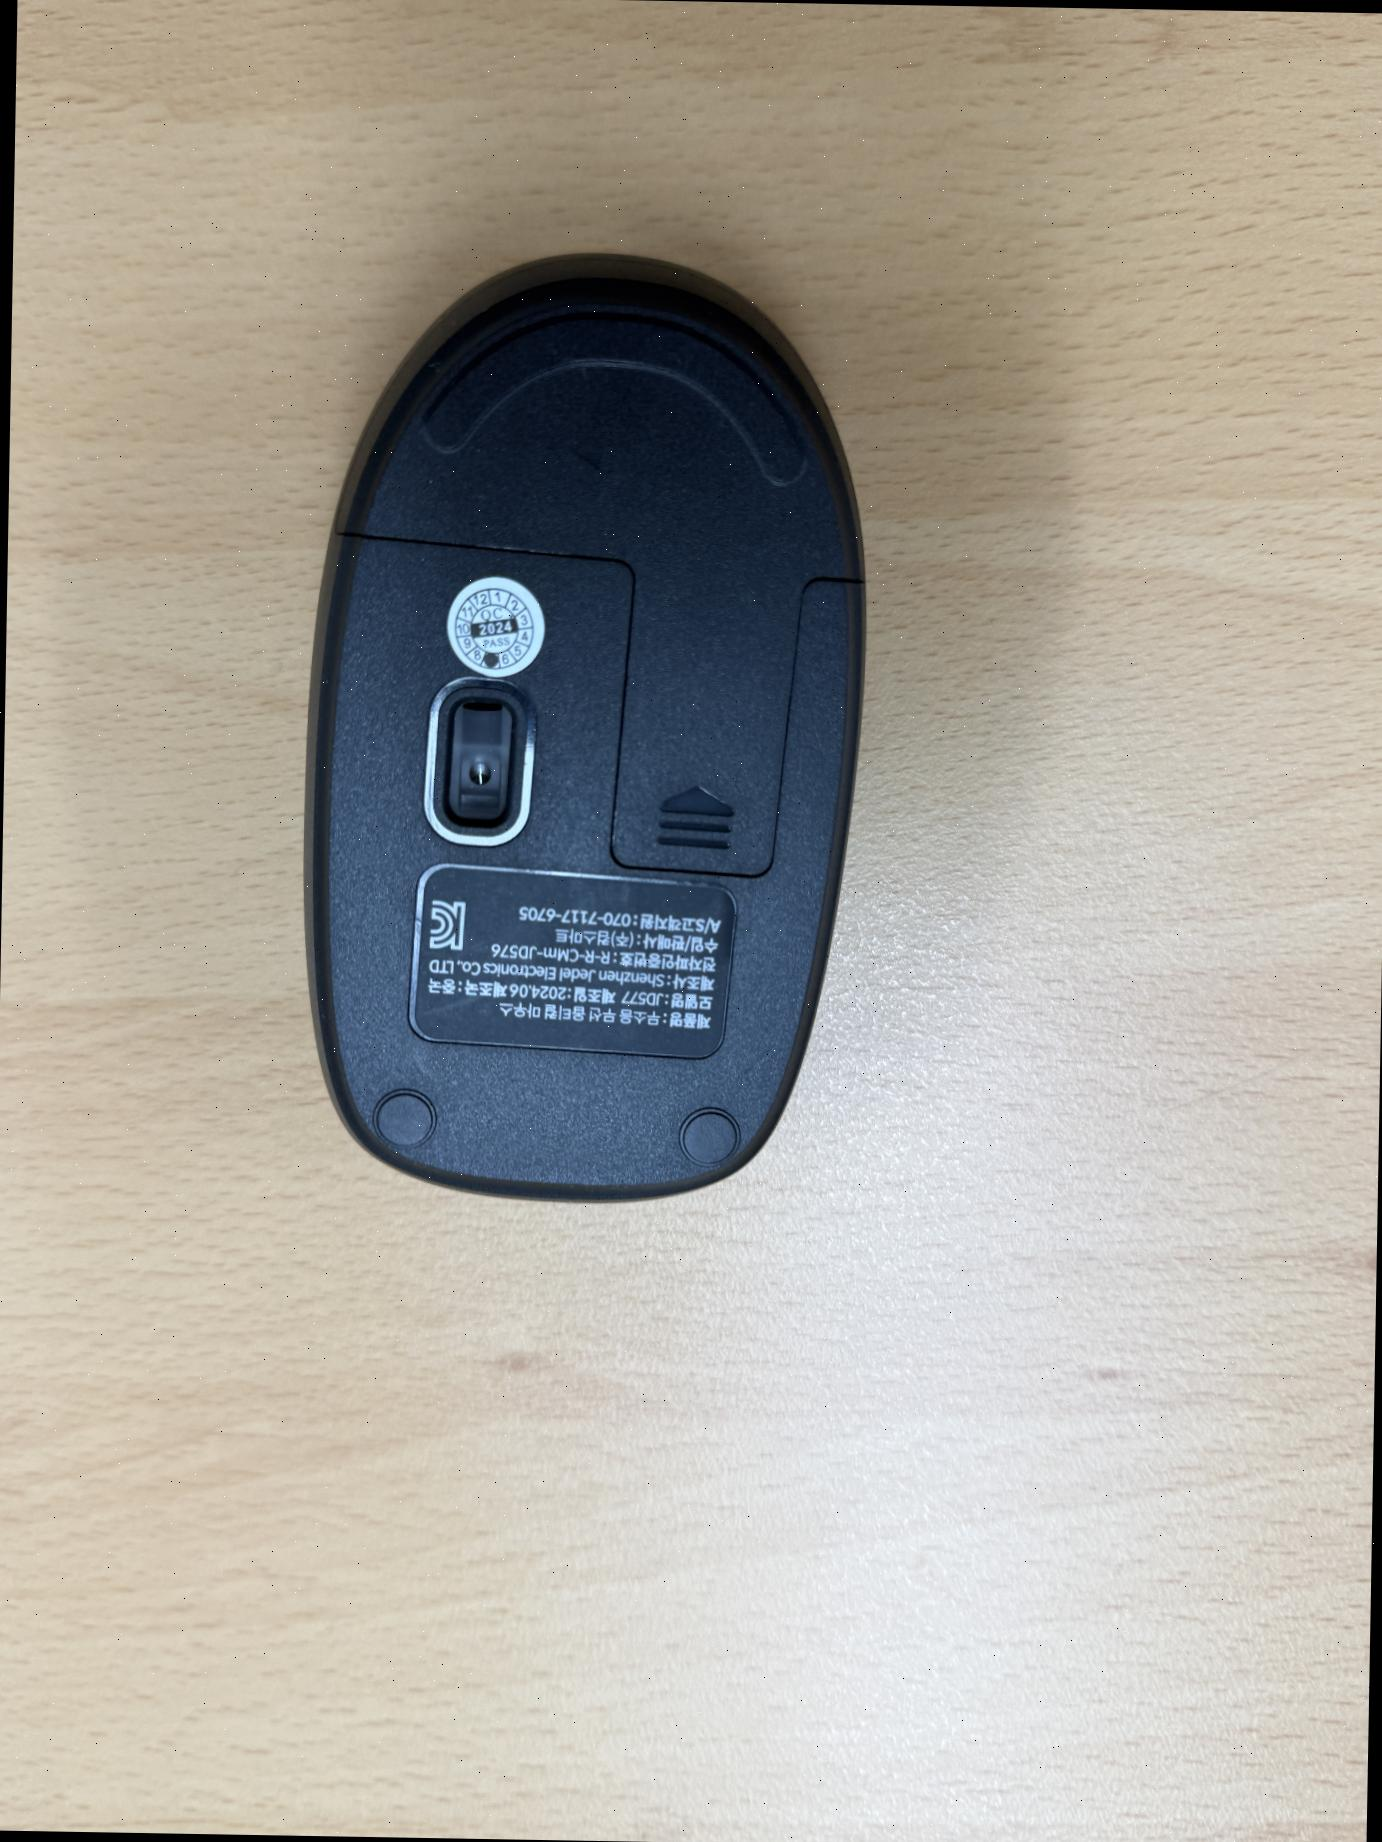back: (283, 240, 874, 1206)
